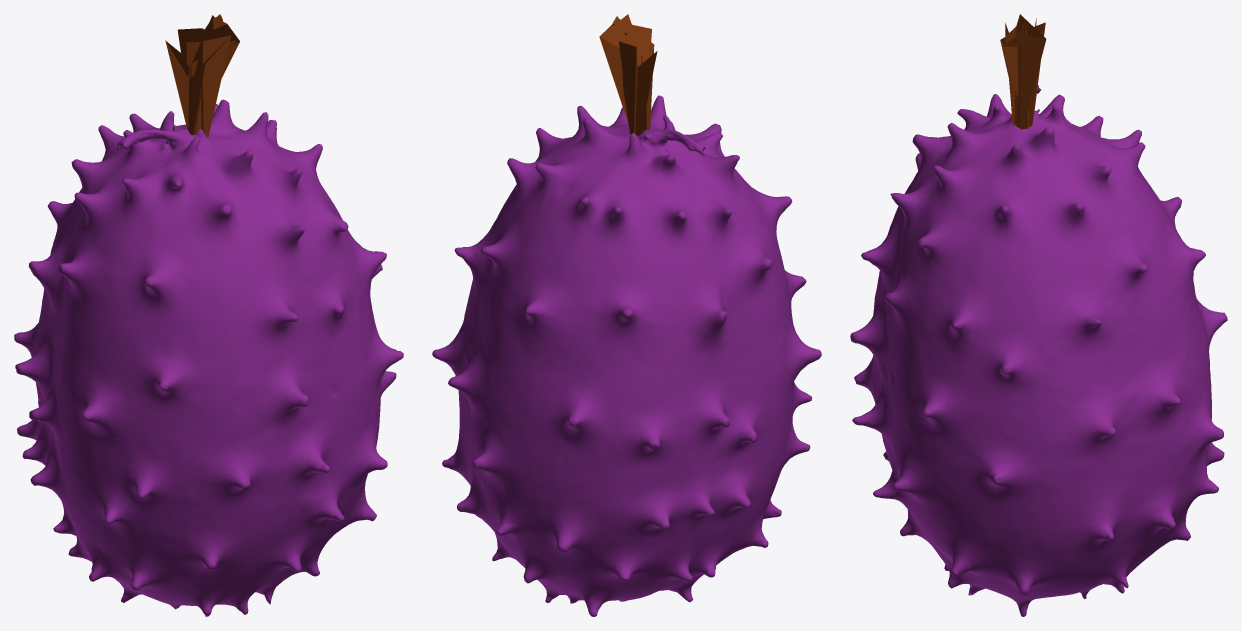
File: Fruit_Pecha.fbx
The picture shows the model from 3 angles, left to right: view 1: azimuth 30°, elevation 25°; view 2: azimuth 150°, elevation 25°; view 3: azimuth 270°, elevation 25°; orthographic projection. The views are drawn at different scales.
Parts seen in each view (by area): view 1: kiwano_rigsters, Cylinder; view 2: kiwano_rigsters, Cylinder; view 3: kiwano_rigsters, Cylinder.
Part boxes in pixels (x1,y1,x2,y2): kiwano_rigsters: (14,99,403,616); Cylinder: (165,14,239,137); kiwano_rigsters: (432,95,821,616); Cylinder: (599,14,657,135); kiwano_rigsters: (850,85,1227,616); Cylinder: (1000,14,1046,129).
Bounding box in the file's own units: 299 × 499 × 297.
